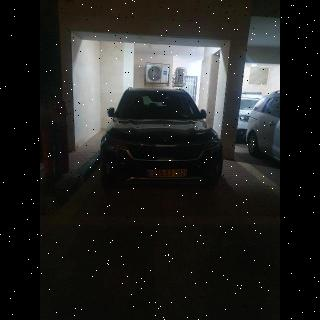LicensePlate: (151, 170, 186, 177)
